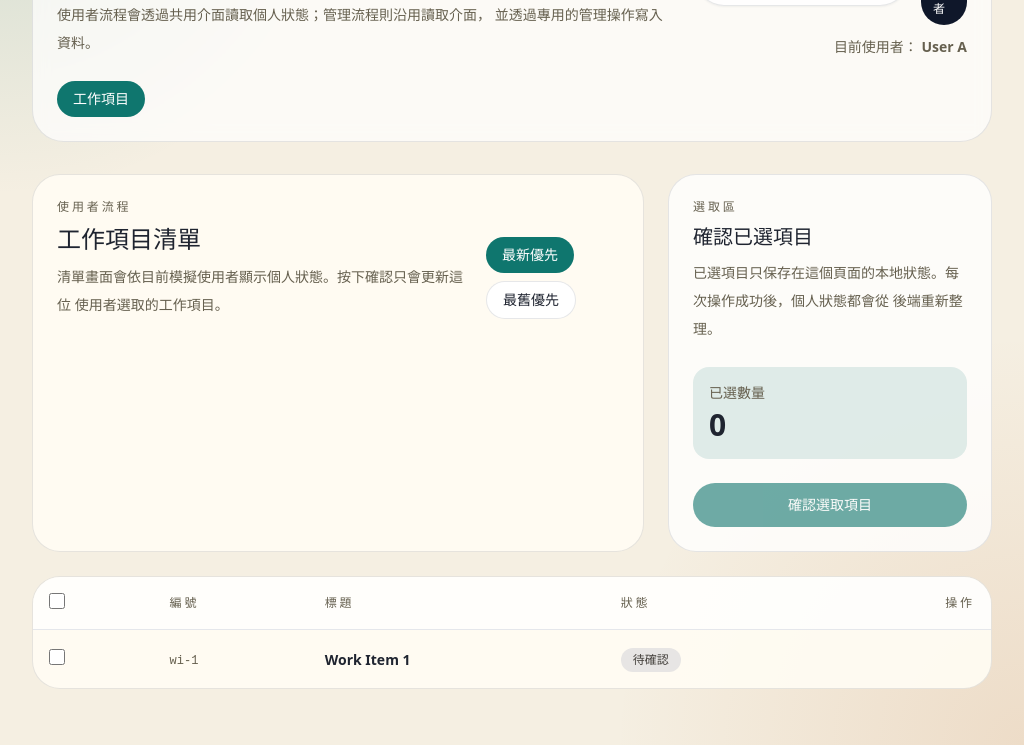
Test: WorkItemsPage › WorkItemsPage_WhenConfirmFails_PreservesSelectionAndShowsError
(page scrolled)
Expected: the button "Work Item 1" is shown, [325,650,410,670]
Click the checkbox named "選取 Work Item 1" at (57, 657), box [49,649,65,665]
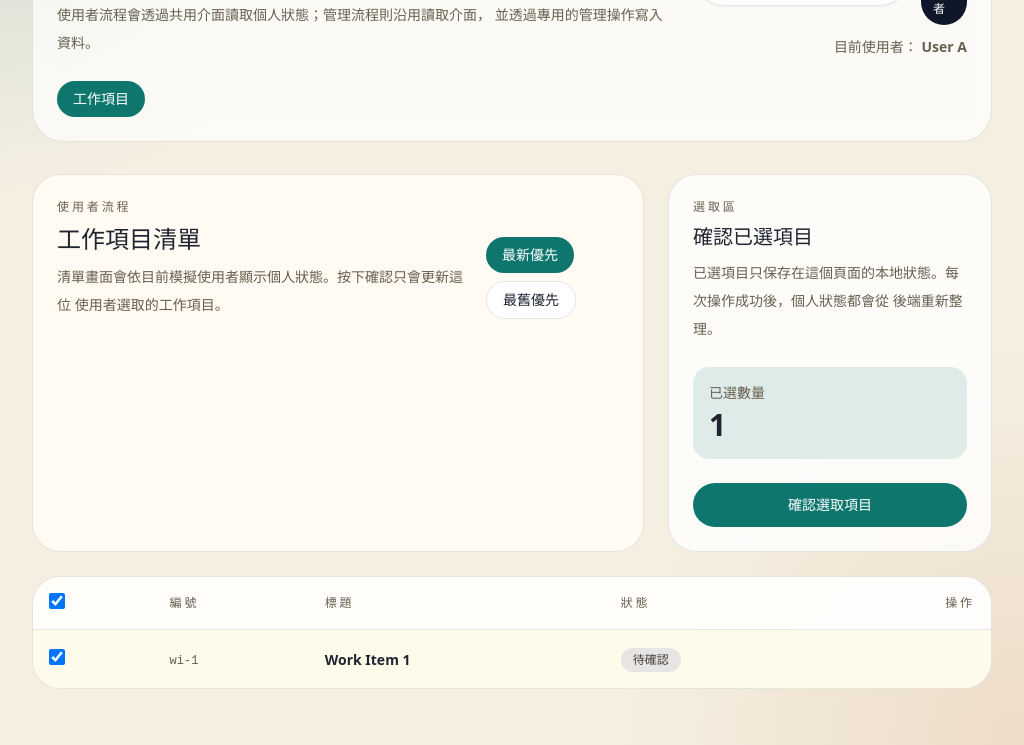
Click the button "確認選取項目" at (830, 505), box [693,483,967,527]
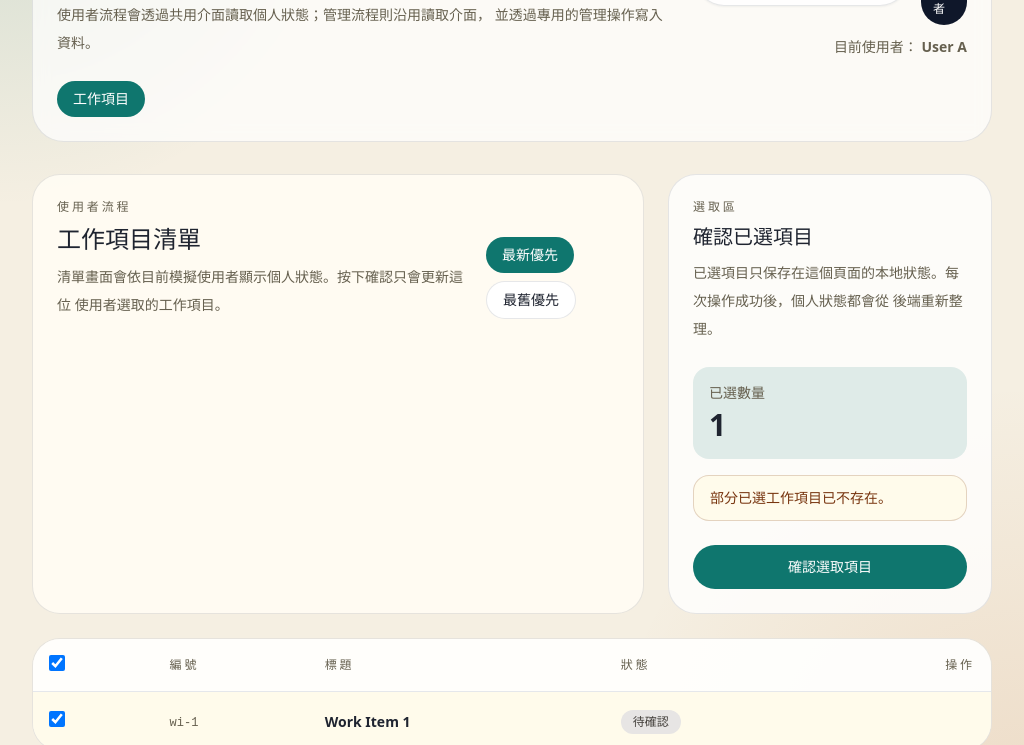
Expected: the checkbox named "選取 Work Item 1" is checked, [49,711,65,727]
Expected: the text "部分已選工作項目已不存在。" is shown, [693,475,967,521]
